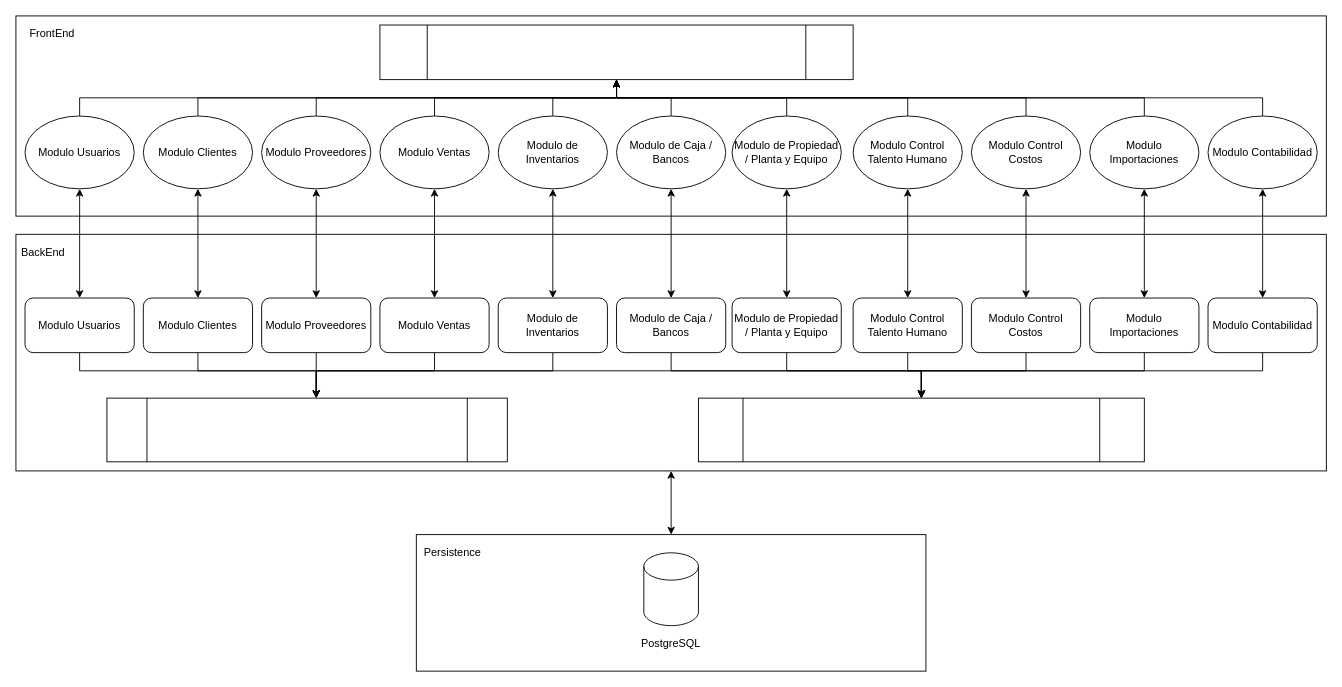
Some shapes in this 1342 by 687 pixel diagram are drawn without their labels. Here are the shapes that lost their labels. From the top down, the centre of each, then its label:
the point at 616,52: Comun FrontEnd
the point at 306,429: Comun BackEnd
the point at 921,429: Storage BackEnd
